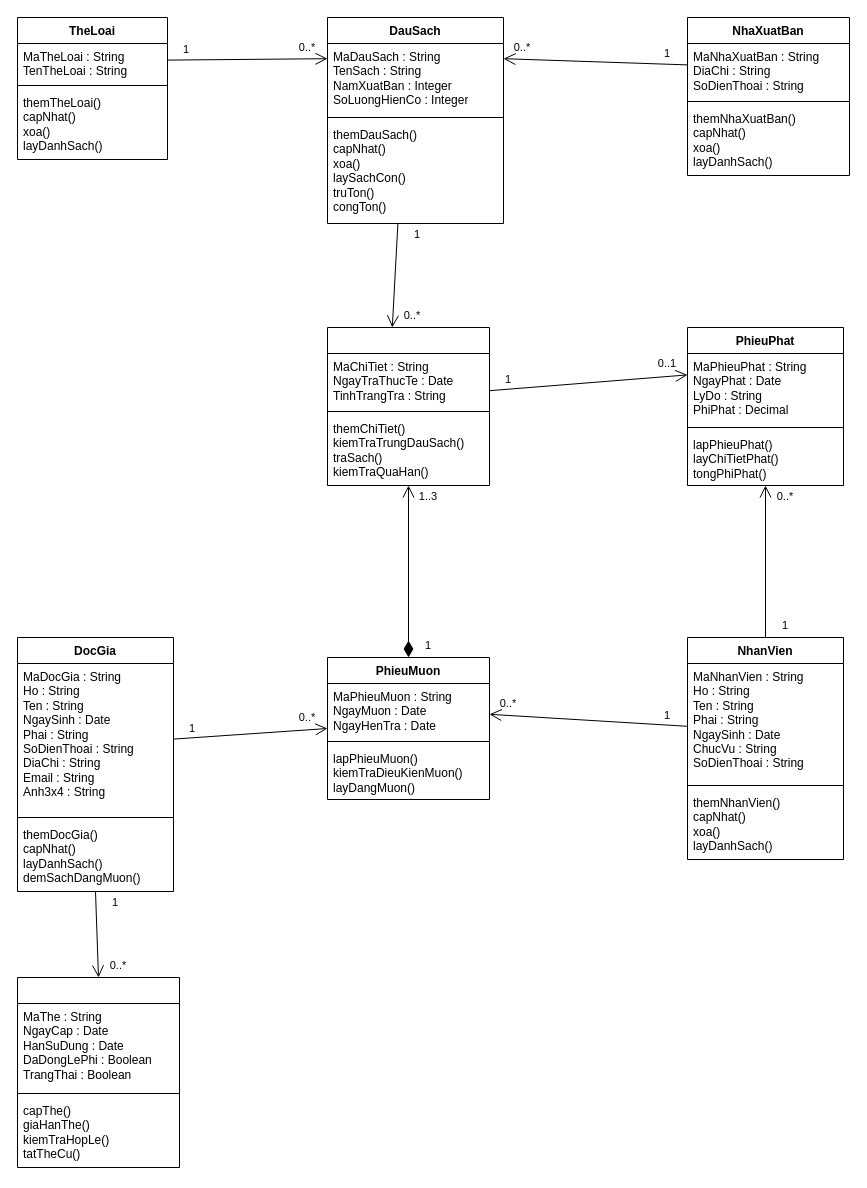
Some shapes in this 867 by 1188 pixel diagram are drawn without their labels. Each missing label, with the box of its shape:
ChiTietPhieuMuon: (326, 326, 490, 486)
TheDocGia: (16, 976, 180, 1168)
